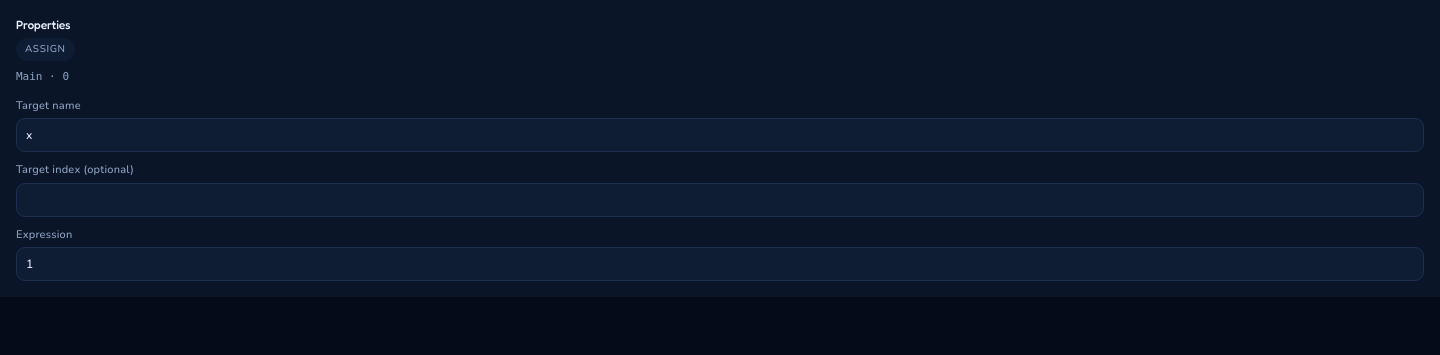
it: assign edits target and rejects an empty target
Clear the field labelled "Target name". click: (720, 135)
box: [16,118,1424,152]
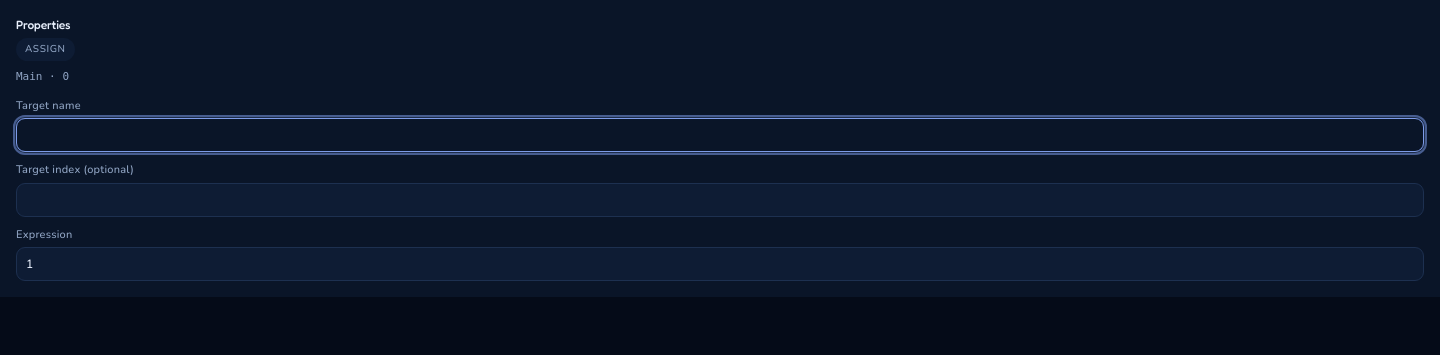
Press Tab
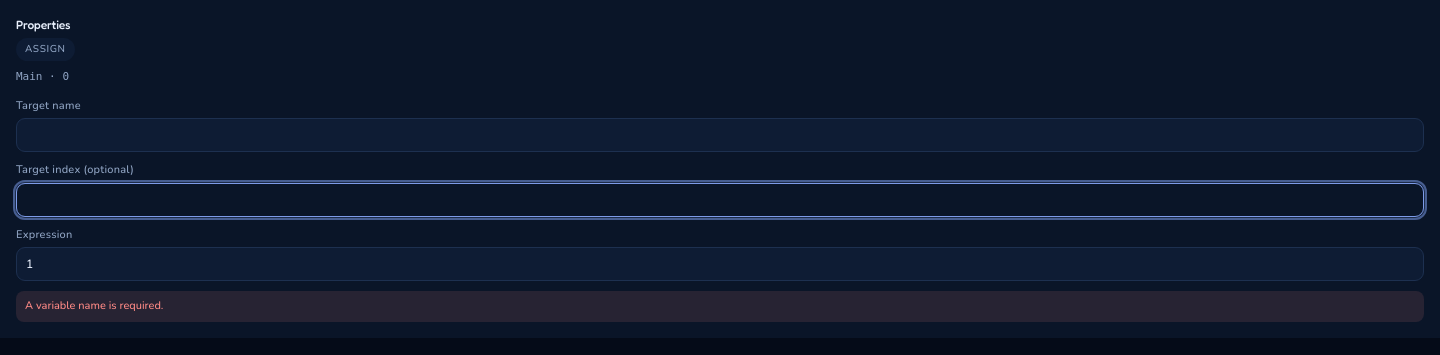
Now the message shows "required", box [25,298,163,313]
